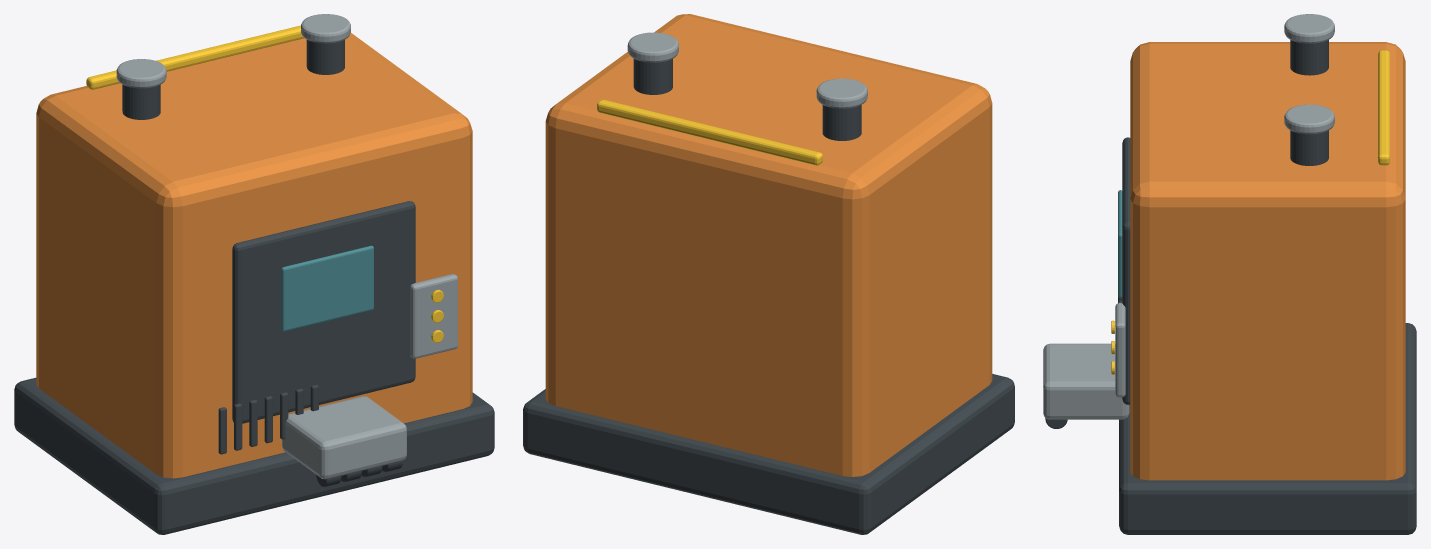
Rendered from constructor_prototype.glb.
3 views of the same model, side by side, from view 1: azimuth 30°, elevation 25°; view 2: azimuth 150°, elevation 25°; view 3: azimuth 270°, elevation 25° (orthographic). The views are drawn at different scales.
Visible parts, largest first — view 1: Main armored housing, Front service door, Lower chassis, Output chute, Inspection window, Control panel, Top safety rail, Exhaust cap, Exhaust cap.001, Upper exhaust, Upper exhaust.001; view 2: Main armored housing, Lower chassis, Top safety rail, Exhaust cap, Exhaust cap.001, Upper exhaust, Upper exhaust.001; view 3: Main armored housing, Lower chassis, Output chute, Front service door, Top safety rail, Exhaust cap.001, Exhaust cap, Upper exhaust, Upper exhaust.001, Control panel, Inspection window.
Part boxes in pixels (bbox=[...]): Main armored housing: bbox=[36, 33, 472, 478]; Front service door: bbox=[232, 201, 415, 423]; Lower chassis: bbox=[14, 377, 494, 534]; Output chute: bbox=[282, 396, 406, 479]; Inspection window: bbox=[281, 245, 373, 331]; Control panel: bbox=[410, 274, 457, 358]; Top safety rail: bbox=[86, 25, 304, 89]; Exhaust cap: bbox=[116, 59, 166, 88]; Exhaust cap.001: bbox=[301, 14, 350, 43]; Upper exhaust: bbox=[122, 84, 160, 119]; Upper exhaust.001: bbox=[306, 40, 344, 74]; Main armored housing: bbox=[545, 14, 992, 476]; Lower chassis: bbox=[523, 374, 1014, 534]; Top safety rail: bbox=[597, 99, 822, 165]; Exhaust cap: bbox=[816, 78, 867, 108]; Exhaust cap.001: bbox=[627, 32, 678, 62]; Upper exhaust: bbox=[822, 105, 861, 140]; Upper exhaust.001: bbox=[633, 59, 672, 94]; Main armored housing: bbox=[1130, 42, 1405, 480]; Lower chassis: bbox=[1119, 323, 1416, 534]; Output chute: bbox=[1043, 343, 1129, 419]; Front service door: bbox=[1122, 137, 1130, 404]; Top safety rail: bbox=[1378, 50, 1389, 165]; Exhaust cap.001: bbox=[1284, 104, 1334, 134]; Exhaust cap: bbox=[1284, 14, 1334, 43]; Upper exhaust: bbox=[1290, 40, 1328, 75]; Upper exhaust.001: bbox=[1290, 130, 1328, 165]; Control panel: bbox=[1115, 303, 1125, 397]; Inspection window: bbox=[1118, 190, 1122, 298].
Size of what is drawn, in the model's own units: 2.65 by 2.95 by 2.51.
